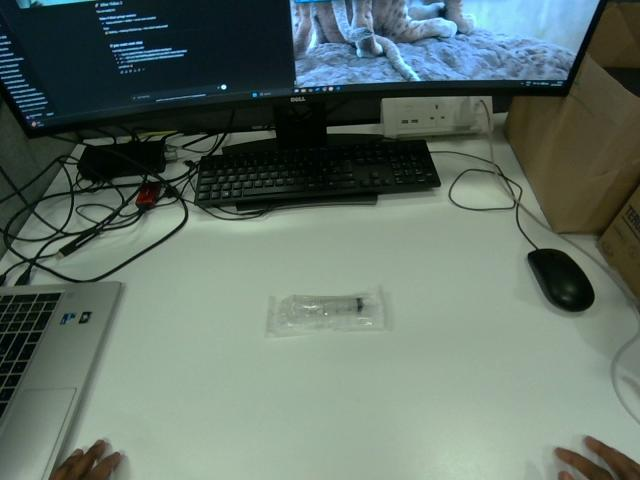syringe: (267, 287, 385, 336)
